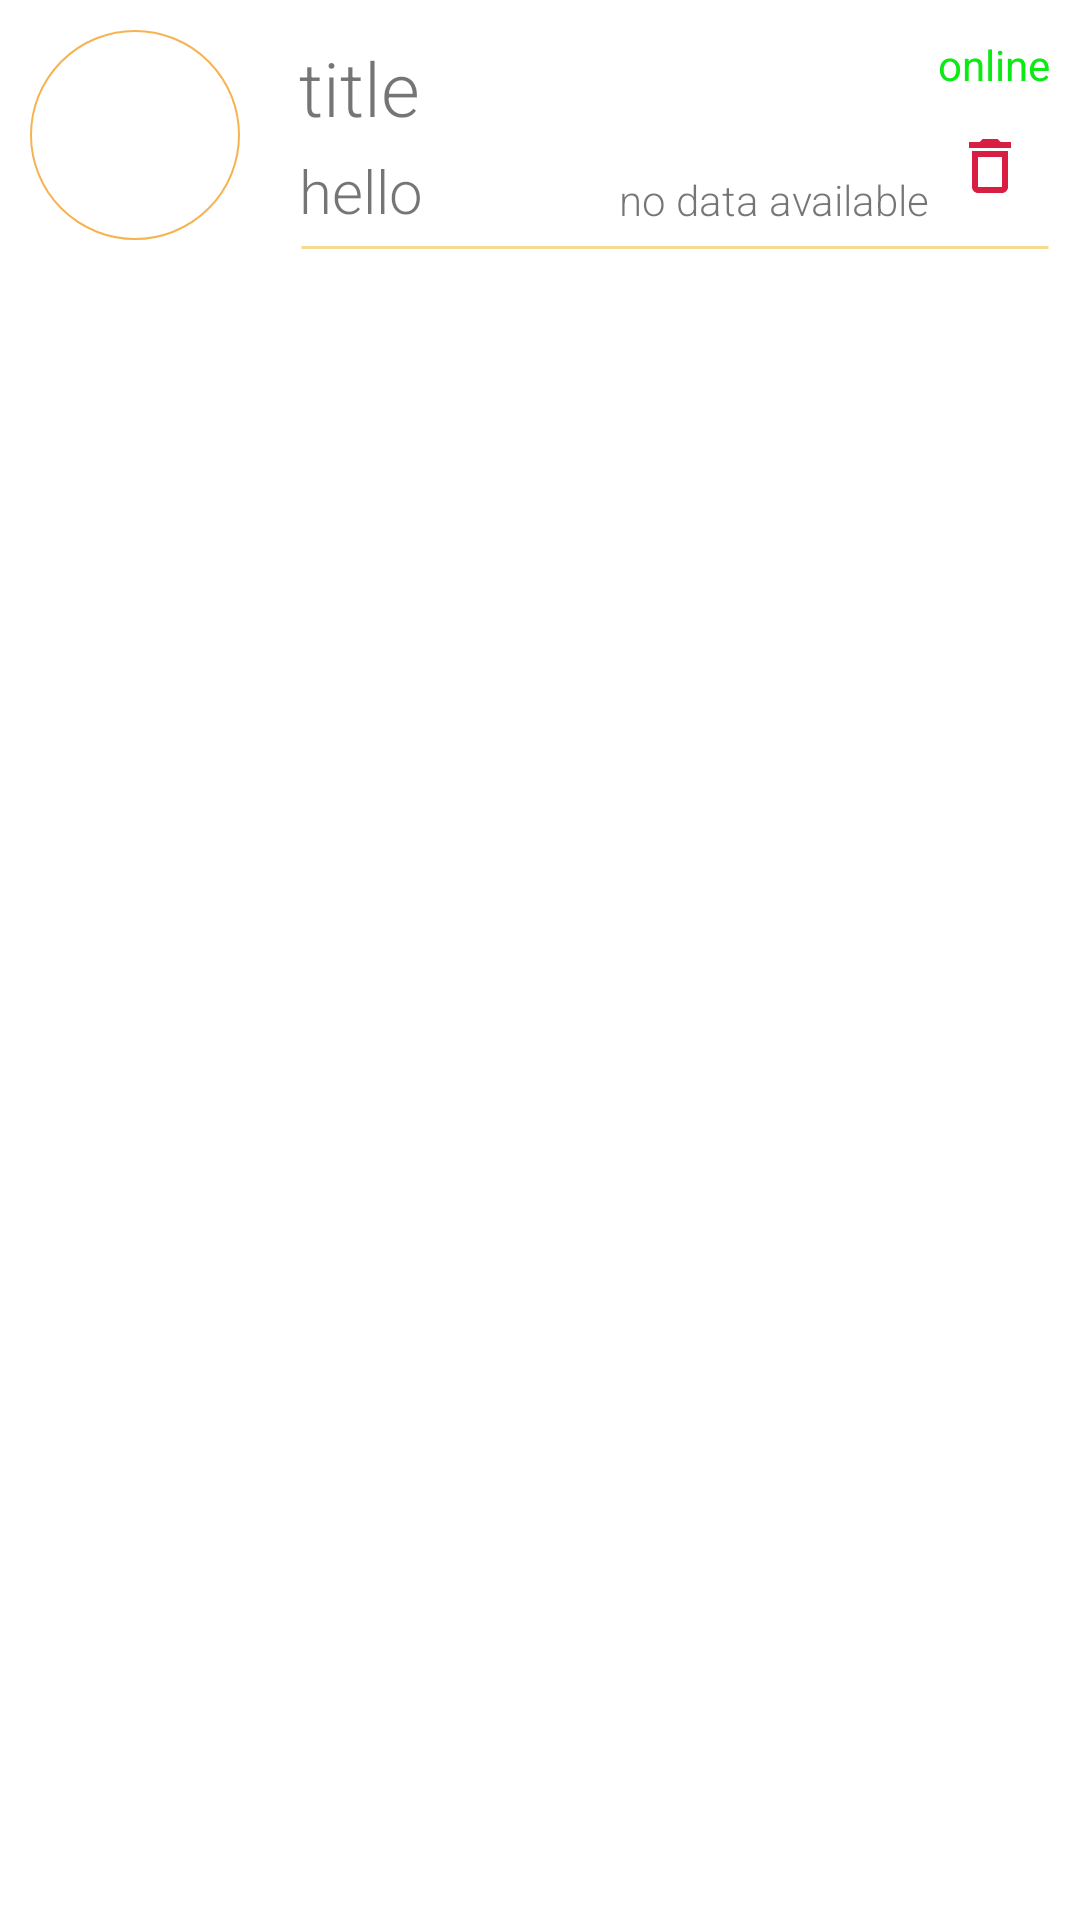

Named icons in this screenshot (1080px×1920px) and their centers, [x,y]:
deleteimg: [990,166]
